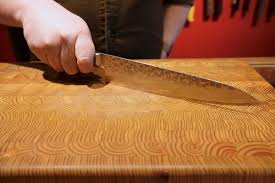knife: (27, 35, 268, 112)
